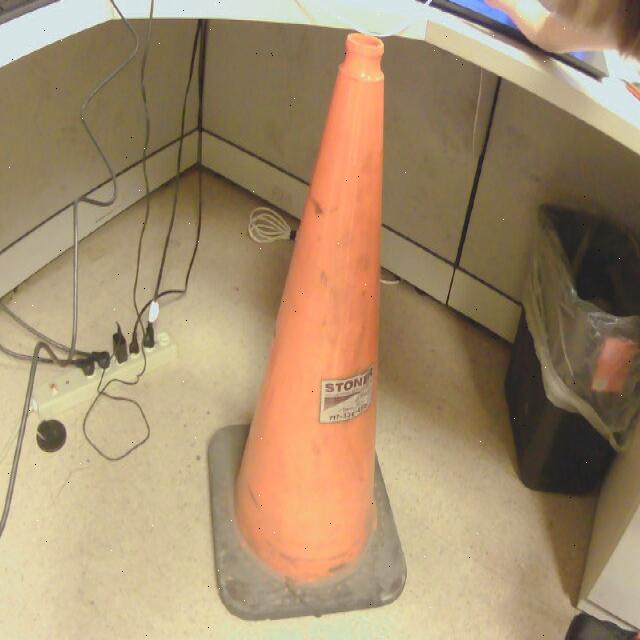traffic cone: (192, 24, 426, 628)
